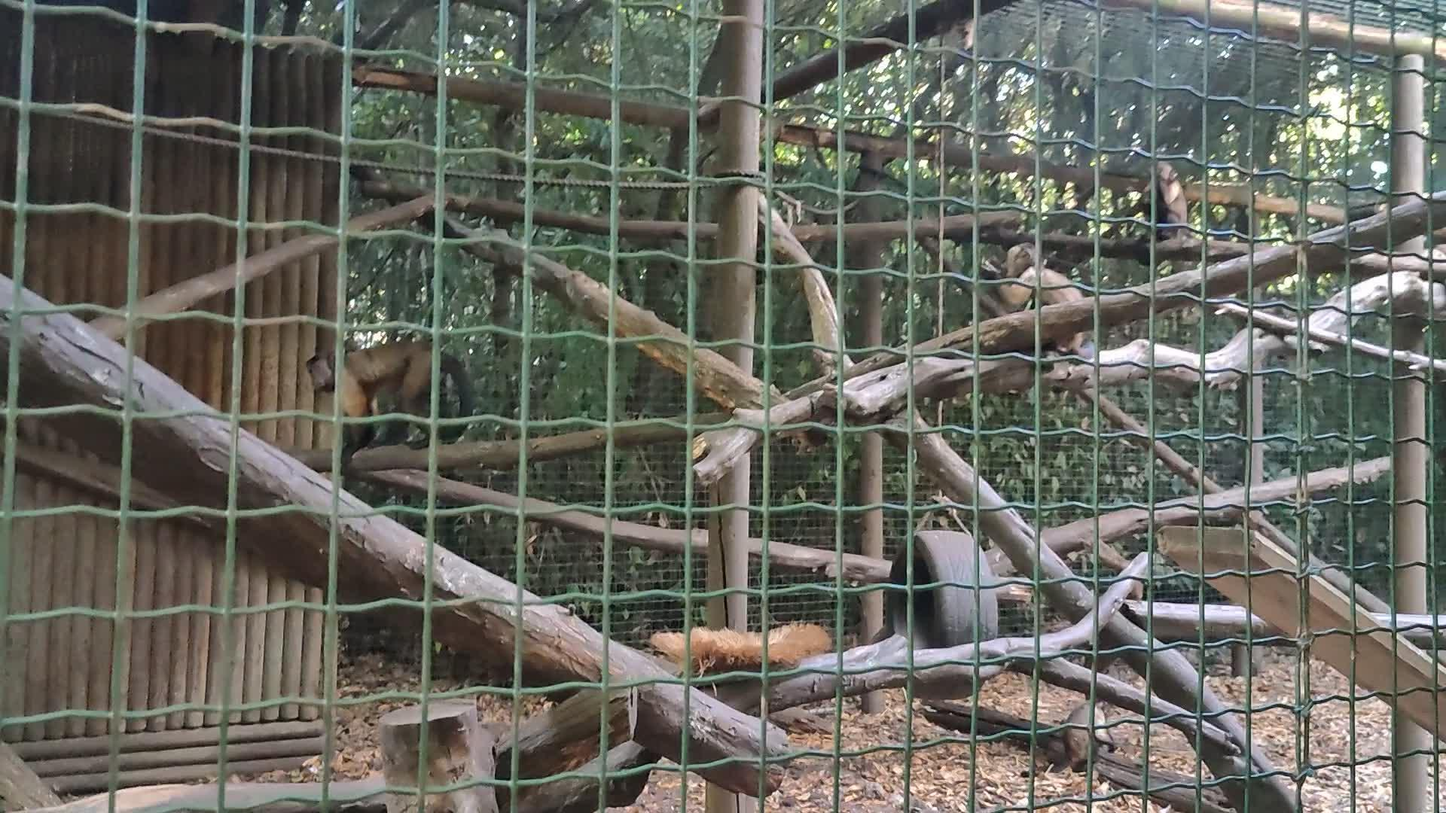boar: (306, 340, 473, 465), (980, 242, 1092, 356), (1139, 161, 1188, 243)
